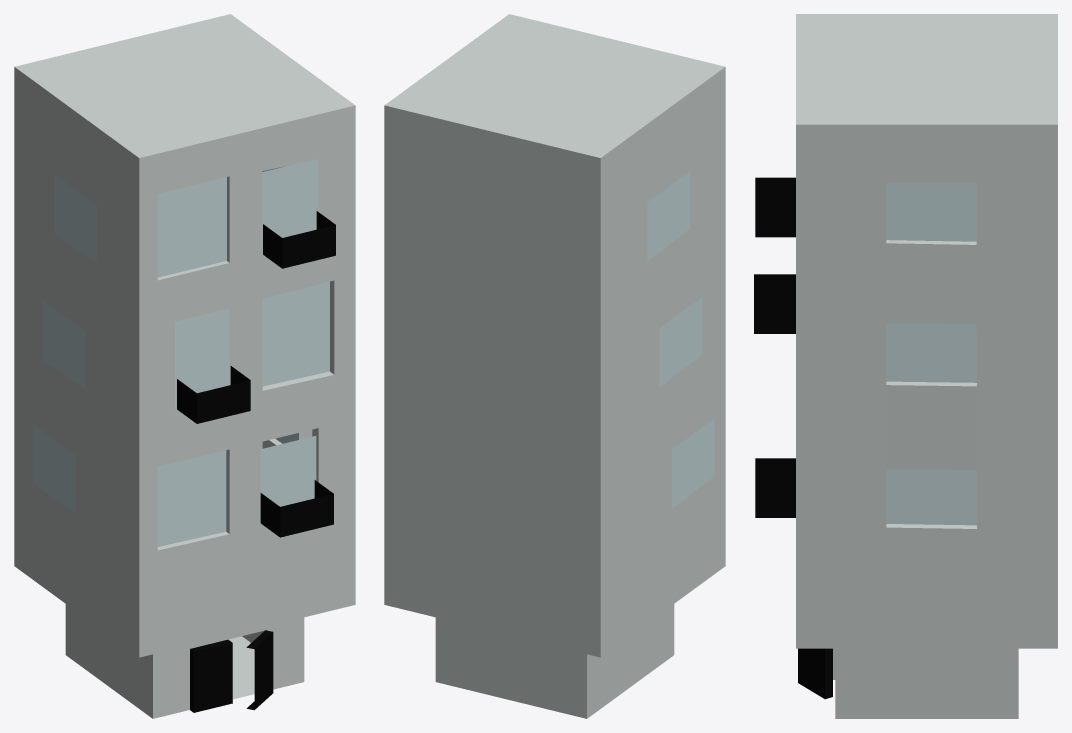
Rendered from flatwit.fbx.
3 renders of one model, left to right at view 1: azimuth 30°, elevation 25°; view 2: azimuth 150°, elevation 25°; view 3: azimuth 270°, elevation 25°, orthographic. The views are drawn at different scales.
Visible parts, largest first — view 1: Cube, Cube.005, Cube.004, Cube.006, Cube.014, Cube.013, Cube.012, Cube.007, Cube.017, Cube.015, Cube.016, Cube.002 (+3 smaller); view 2: Cube, Cube.016, Cube.015, Cube.017; view 3: Cube, Cube.010, Cube.009, Cube.011, Cube.002, Cube.001, Cube.003, Cube.008.
Boxes of the visible parts, x1,y1,x2,y2 form: Cube: [14, 14, 355, 718]; Cube.005: [262, 281, 329, 386]; Cube.004: [157, 177, 226, 277]; Cube.006: [157, 450, 226, 546]; Cube.014: [175, 308, 229, 409]; Cube.013: [262, 159, 318, 251]; Cube.012: [260, 436, 316, 522]; Cube.007: [190, 639, 232, 712]; Cube.017: [32, 424, 75, 512]; Cube.015: [54, 174, 97, 262]; Cube.016: [43, 301, 85, 389]; Cube.002: [177, 366, 250, 423]; Cube: [384, 14, 725, 718]; Cube.016: [659, 297, 702, 387]; Cube.015: [647, 171, 690, 260]; Cube.017: [672, 418, 714, 508]; Cube: [796, 14, 1057, 718]; Cube.010: [886, 323, 976, 382]; Cube.009: [886, 183, 976, 241]; Cube.011: [886, 469, 976, 525]; Cube.002: [754, 274, 795, 333]; Cube.001: [755, 177, 795, 237]; Cube.003: [755, 458, 795, 517]; Cube.008: [798, 648, 832, 699].
Bounding box in the file's own units: 598 × 1368 × 617.
